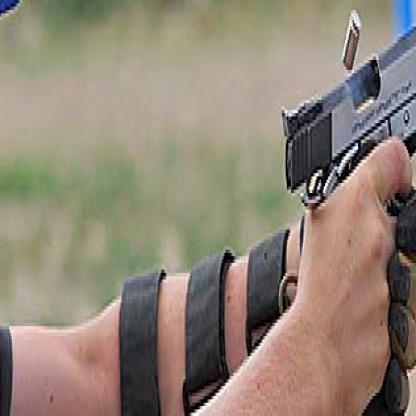gun: (276, 0, 414, 413)
